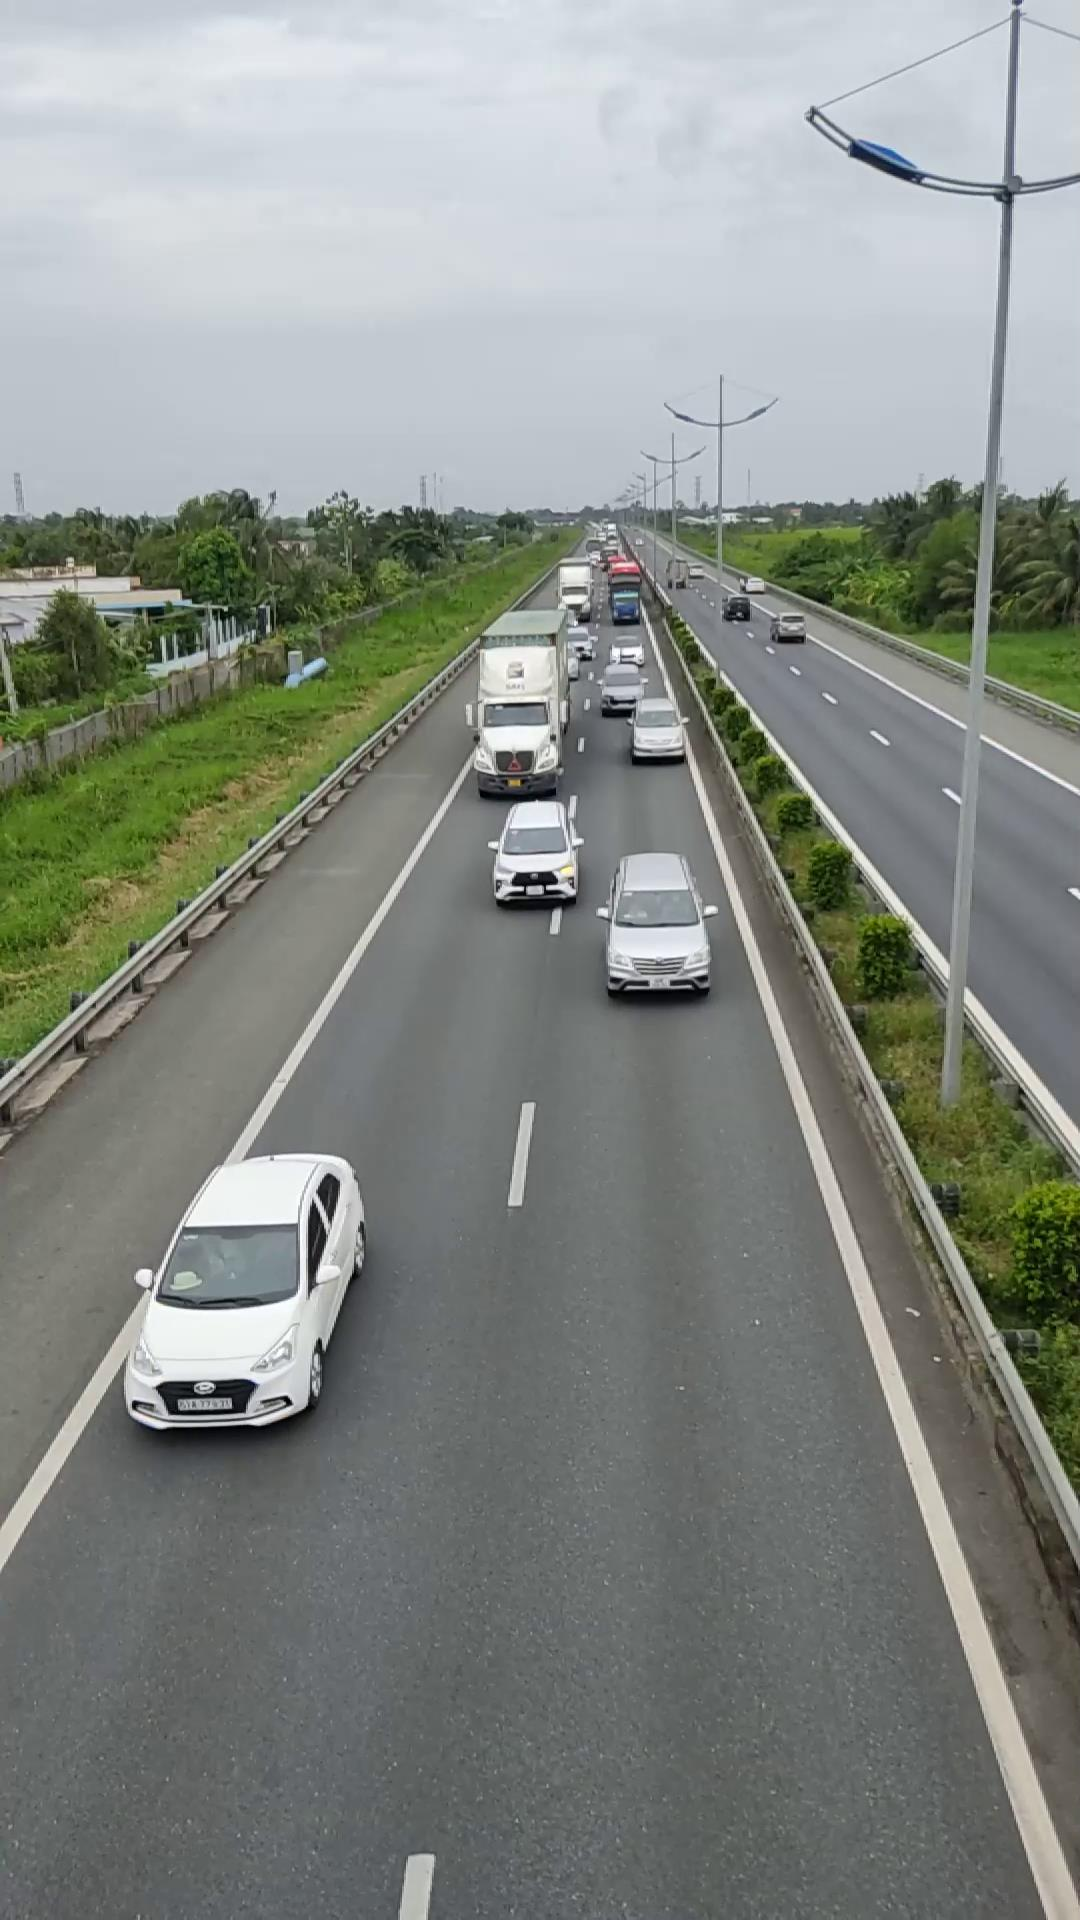car: (121, 1149, 368, 1431), (599, 851, 713, 998), (488, 799, 584, 907), (626, 698, 690, 762)
container: (469, 605, 576, 796)
